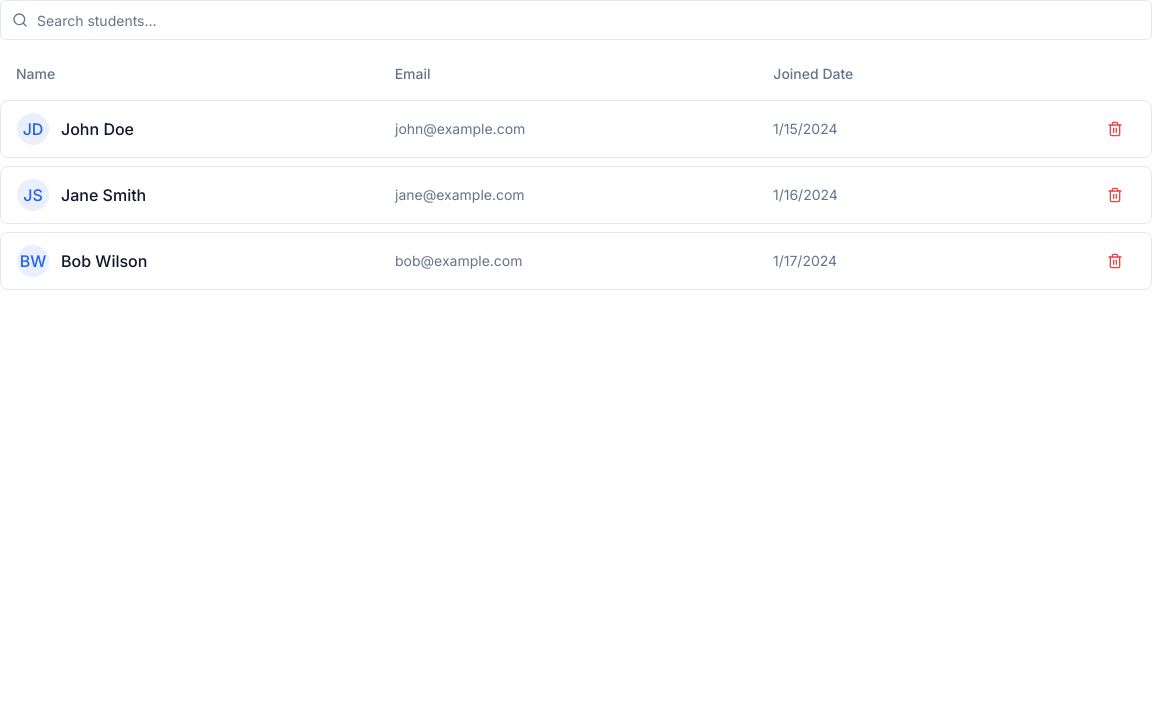
it: StudentList › opens confirmation dialog when remove button is clicked
Click the button without text in the row of "1/15/2024". click: (1115, 129)
box: [1095,113,1135,145]
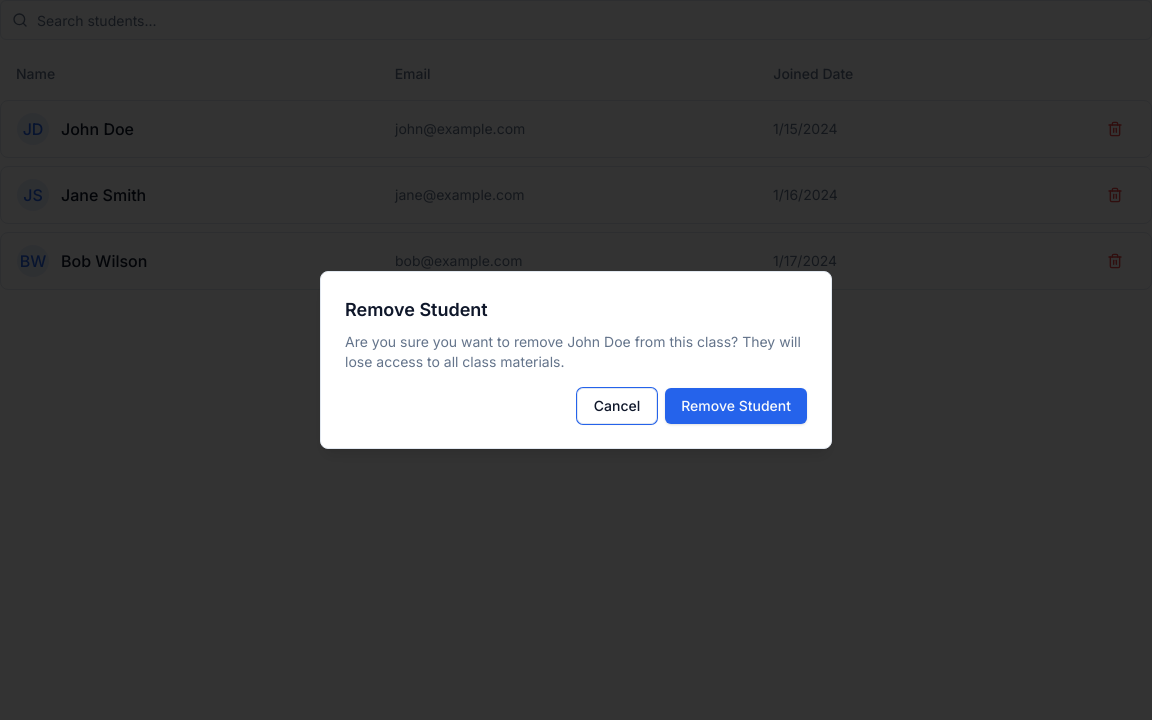
Expected: the heading "Remove Student" is shown, [345,299,488,320]
